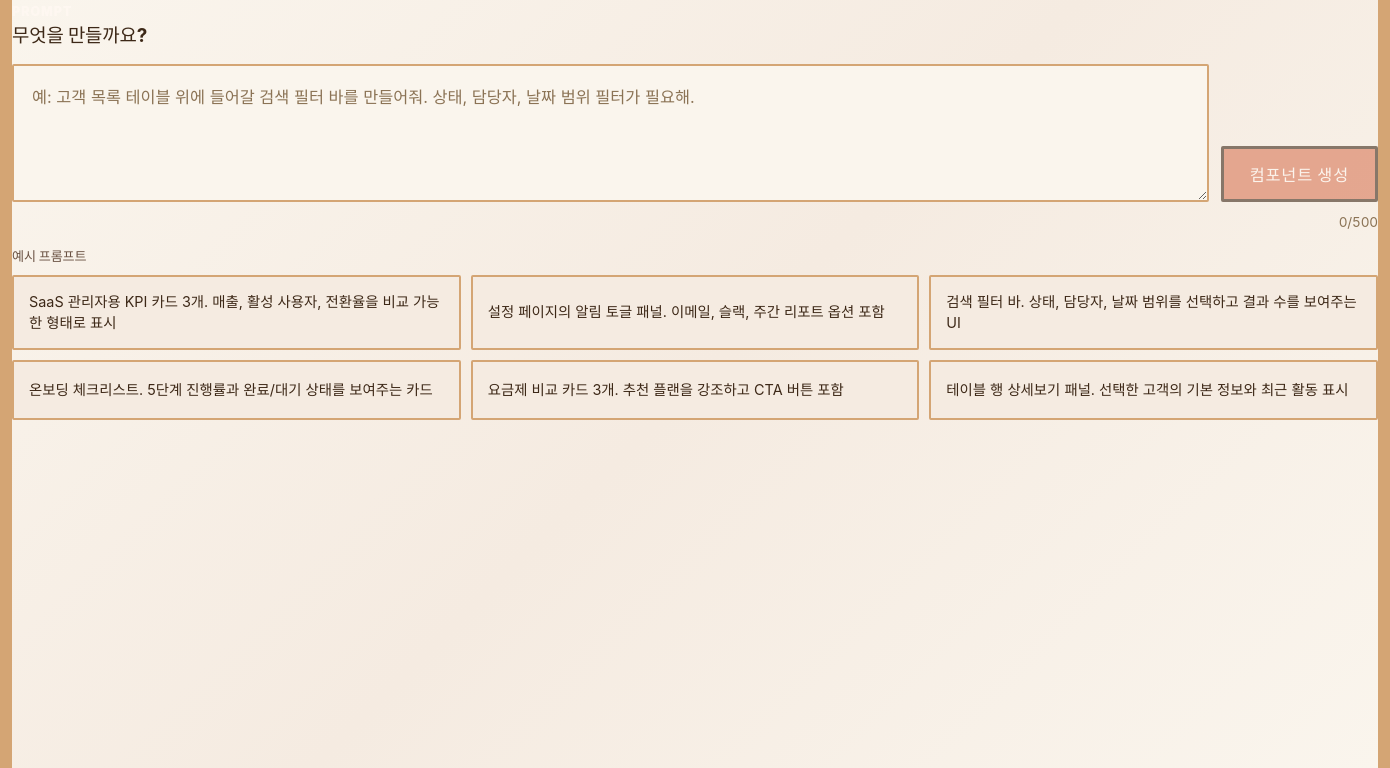
Test case: PromptInput › 글자 수 카운터를 "현재/500" 형식으로 보여준다
Expected: the text "0/500" is shown, [1339,214,1378,230]
In the text box: {"x": 610, "y": 133} [12,64,1209,202], type "카드"
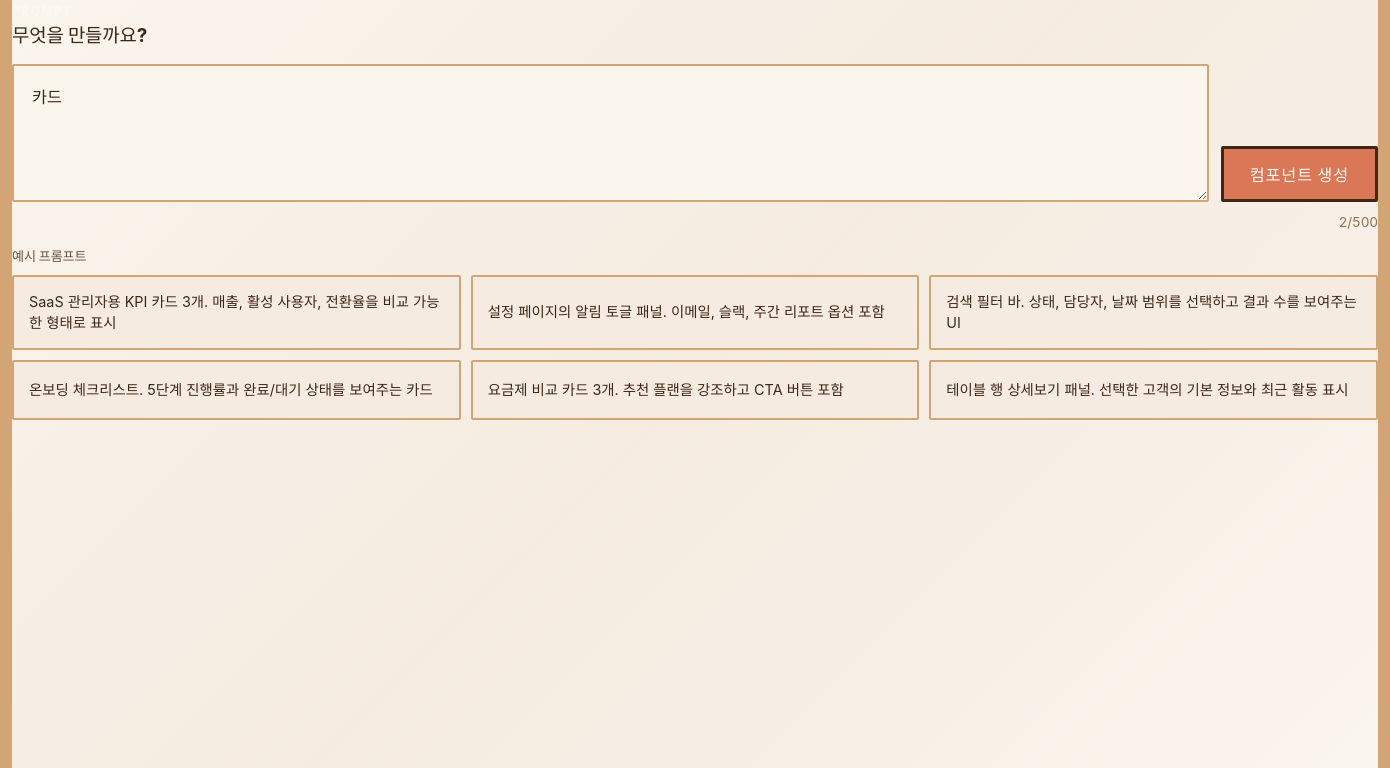
Expected: the text "2/500" is shown, [1339,214,1378,230]
